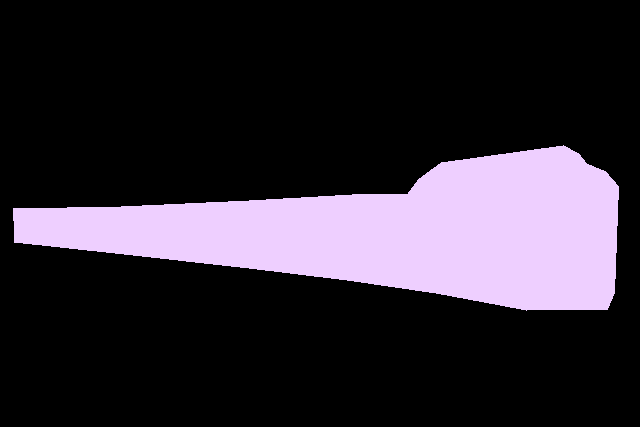Train: (13, 145, 618, 310)
